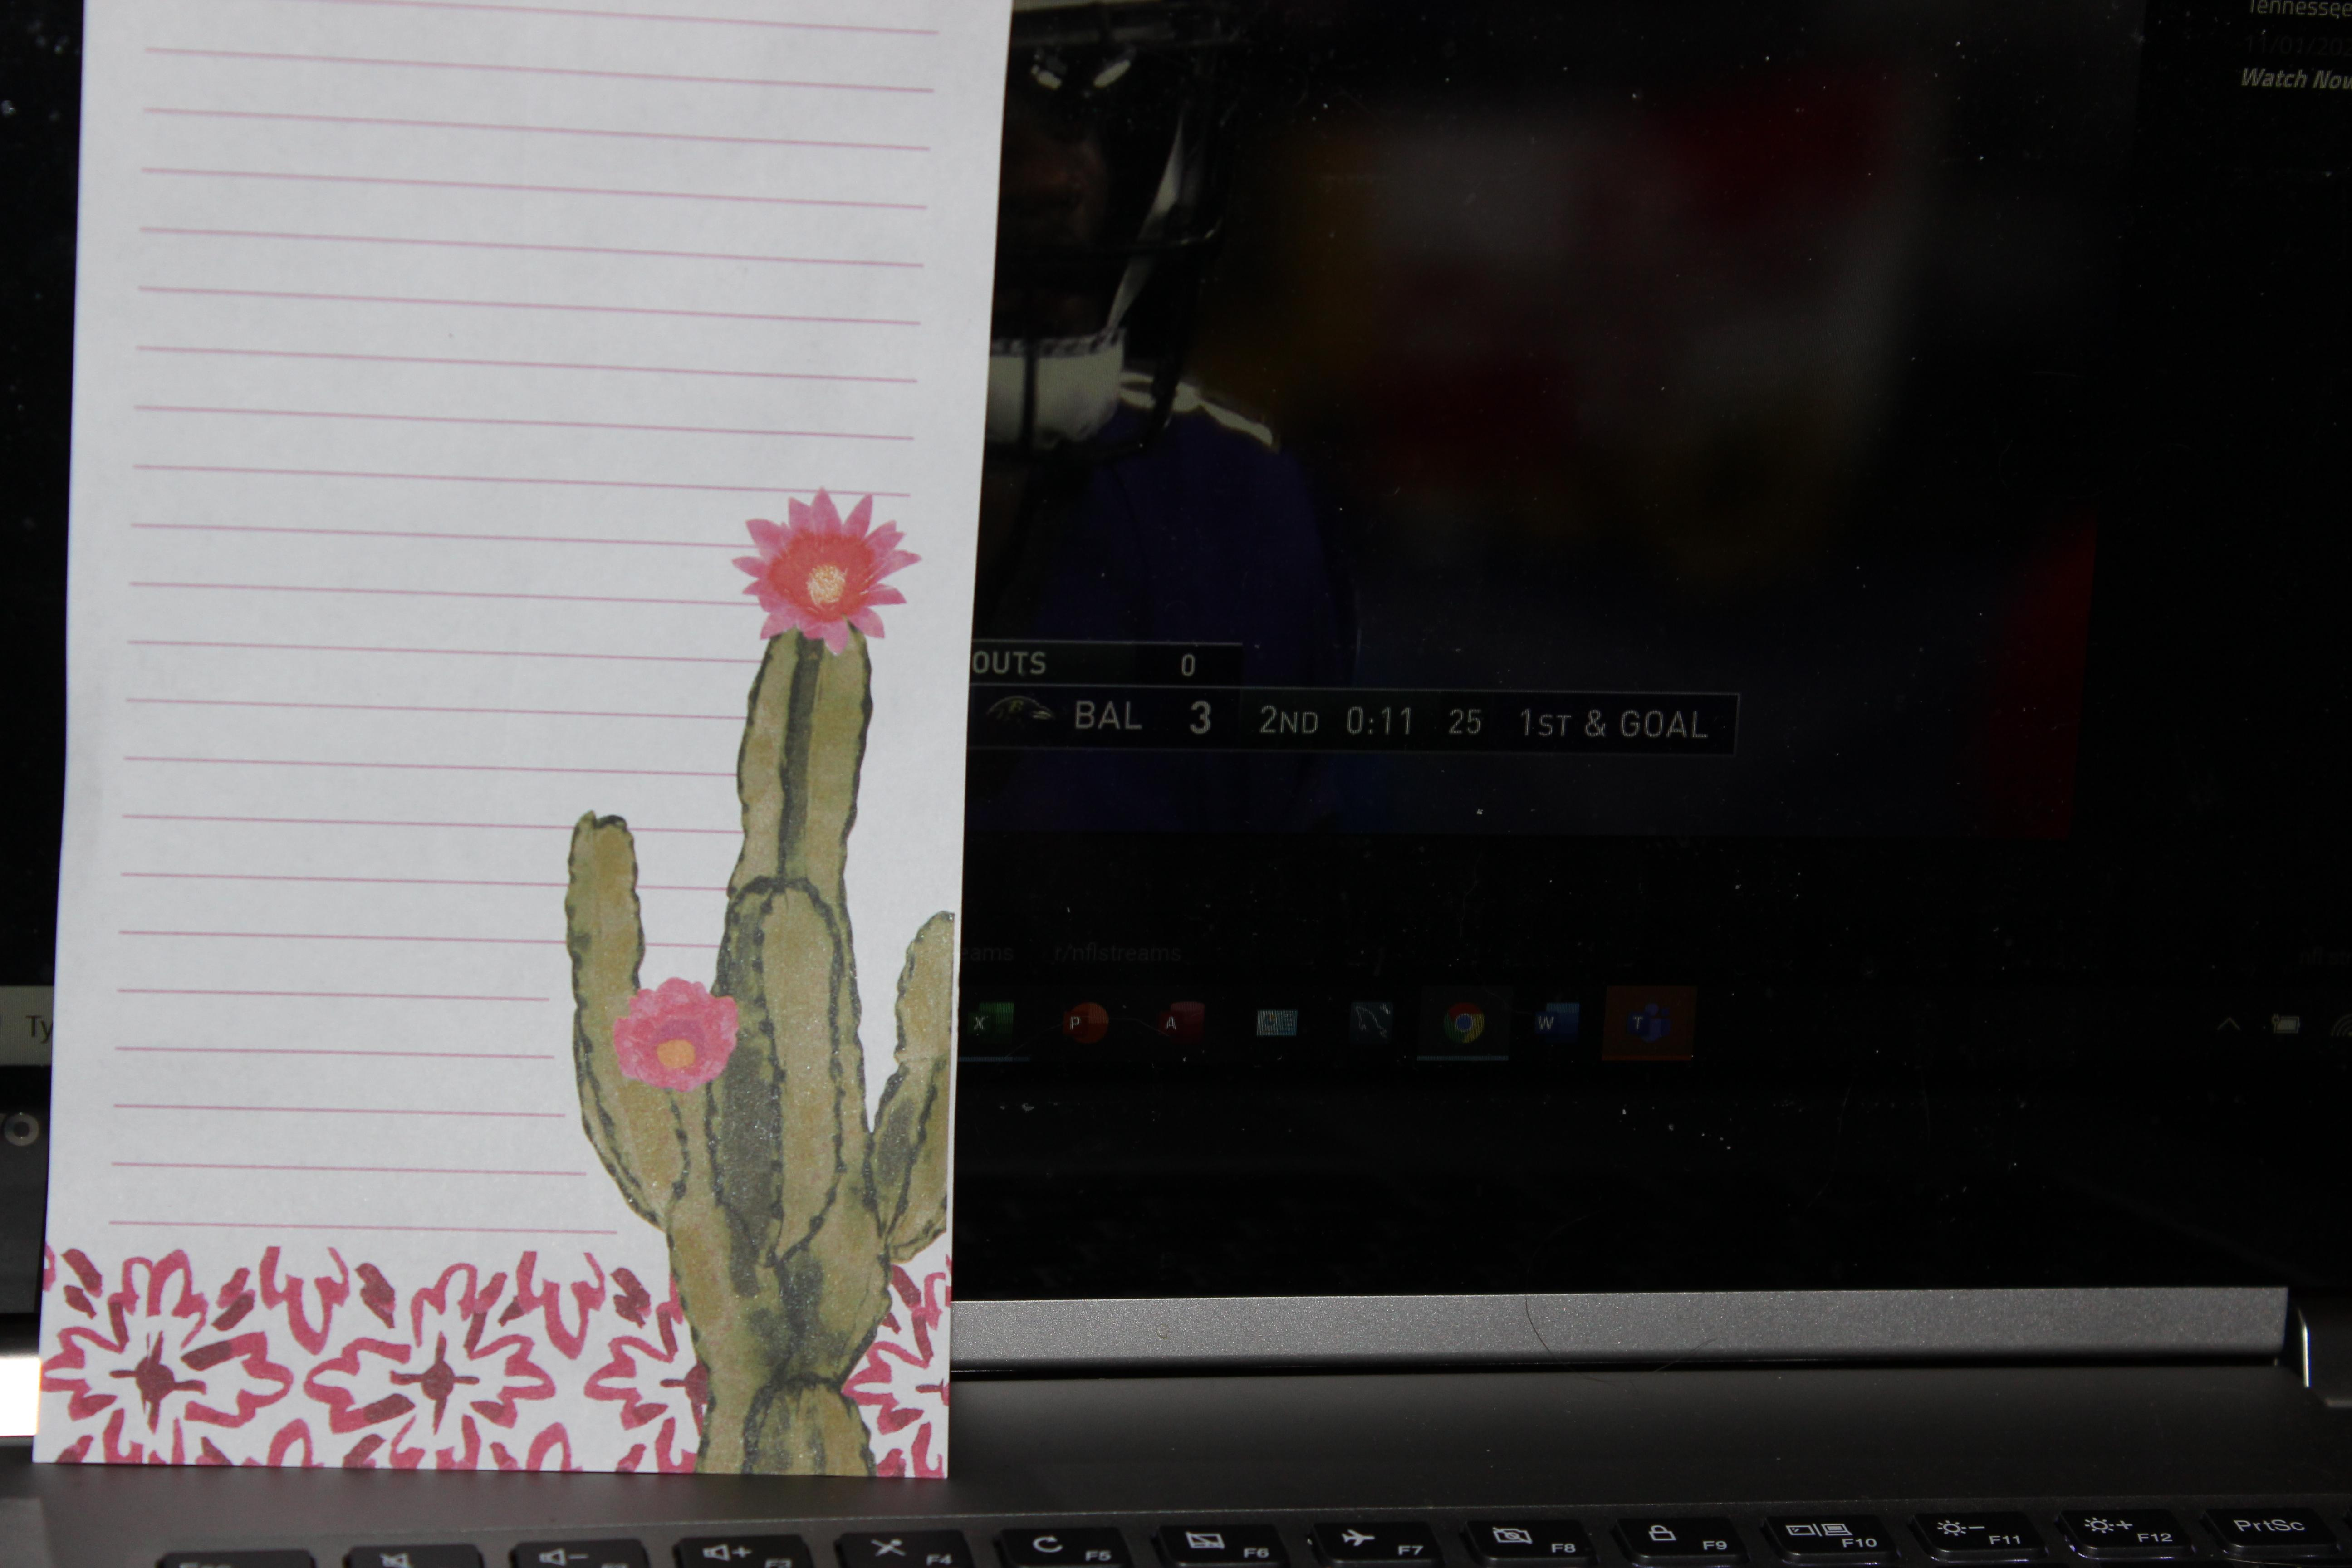cactusPaper: (23, 0, 1052, 1505)
